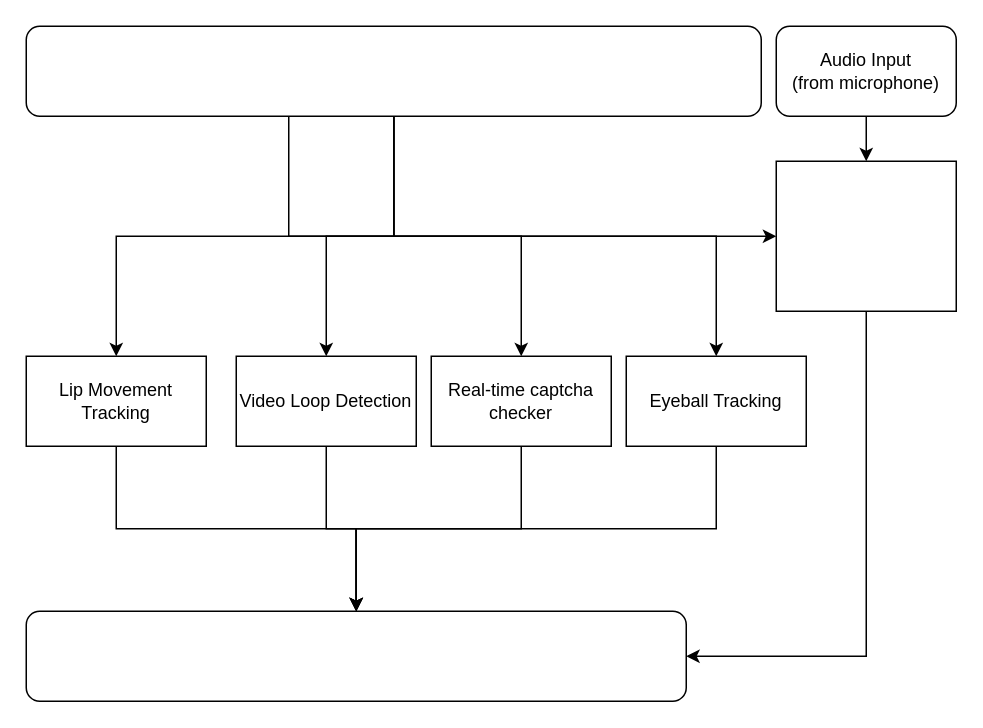
The diagram is 983 pixels wide and 728 high, and some of its shapes have lost their labels. Here are the shapes that lost their labels. From the top down, the centre of each, then its label:
At point (393, 70): "Video Input (from web camera)".
At point (865, 235): "Estimation of Number of people in close proximity".
At point (355, 655): "Integrity Score Calculation".
